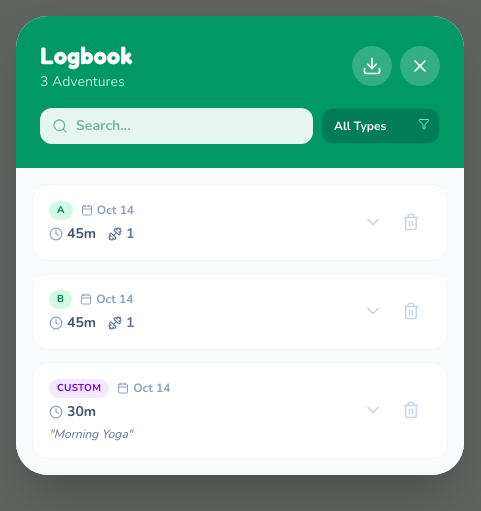
HistoryModal Filtering › should filter by search term
The image size is (481, 511).
# Search for "Yoga"
In the field with placeholder "Search...": (176, 126) top-left (40, 108), bottom-right (313, 144), type "Yoga"
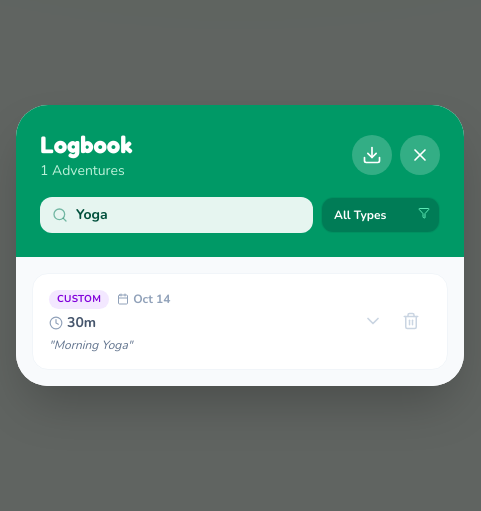
expect the element with test id "log-item-3" is shown: met, box top-left (32, 272), bottom-right (448, 370)
expect the element with test id "log-item-1" is gone: met
